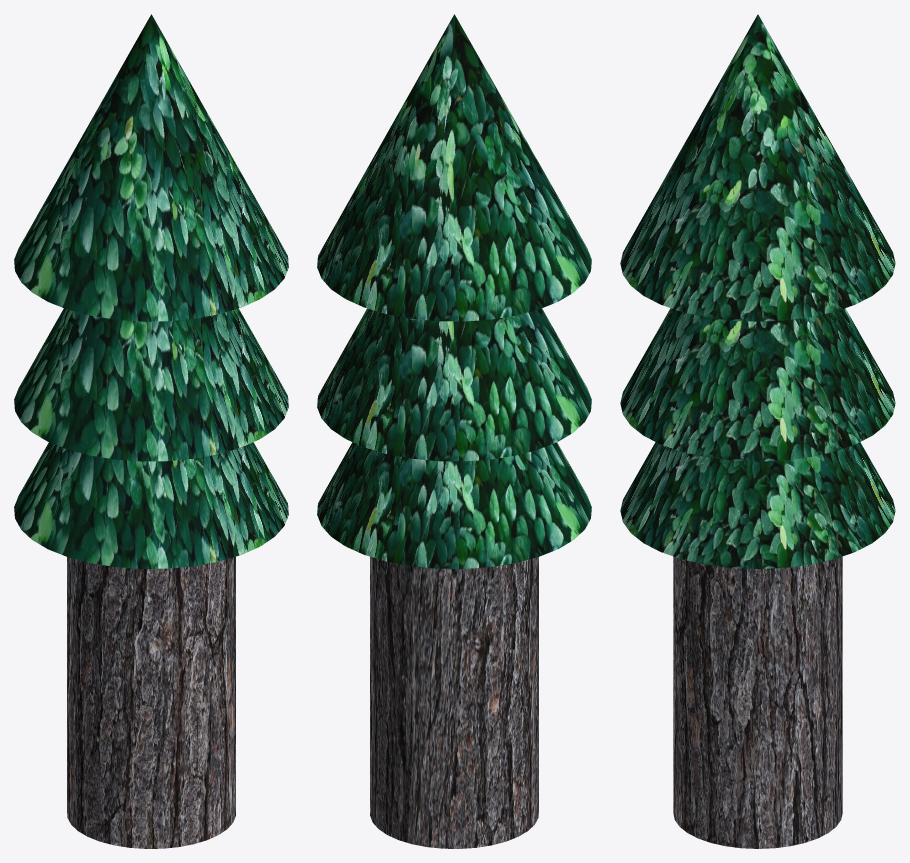
File: TREE.glb
The picture shows the model from 3 angles, left to right: view 1: azimuth 30°, elevation 25°; view 2: azimuth 150°, elevation 25°; view 3: azimuth 270°, elevation 25°; orthographic projection.
Parts seen in each view (by area): view 1: Конус.002, Цилиндр; view 2: Конус.002, Цилиндр; view 3: Конус.002, Цилиндр.
Part boxes in pixels (x1,y1,x2,y2): Конус.002: (14, 14, 288, 568); Цилиндр: (67, 556, 235, 848); Конус.002: (317, 14, 591, 568); Цилиндр: (370, 556, 538, 848); Конус.002: (620, 14, 895, 568); Цилиндр: (673, 556, 842, 848).
Size of the model in its own units: 3.25 by 10.41 by 3.25.
Materials: 2 (2 with a texture image).
